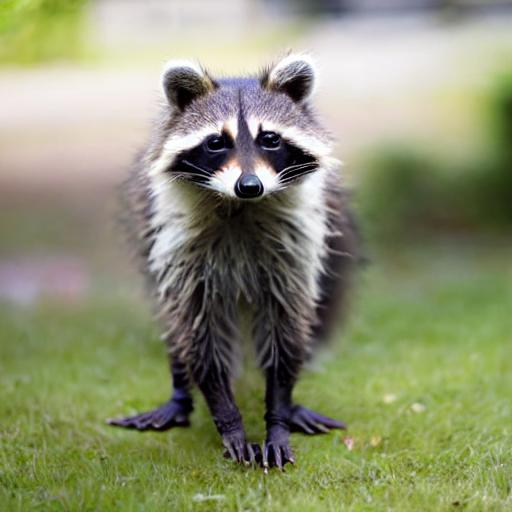raccoon: (109, 50, 372, 391)
